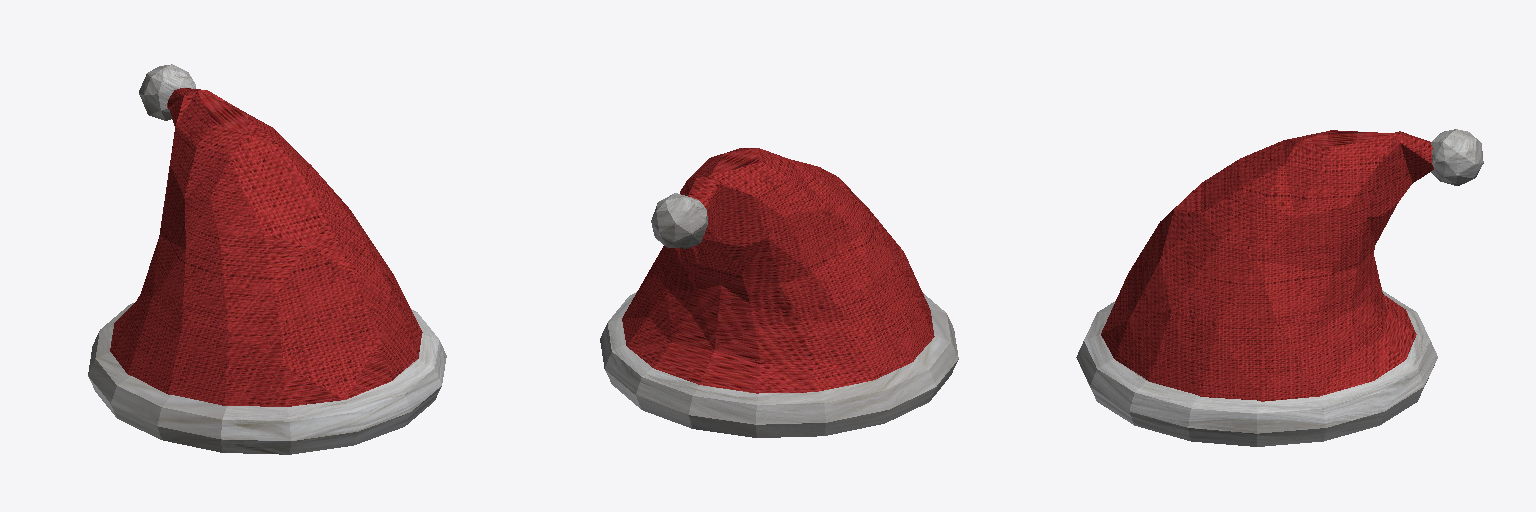
3 renders of one model, left to right at view 1: azimuth 30°, elevation 25°; view 2: azimuth 150°, elevation 25°; view 3: azimuth 270°, elevation 25°, orthographic.
Parts seen in each view (by area): view 1: body.001; view 2: body.001; view 3: body.001.
Boxes of the visible parts, x1,y1,x2,y2 form: body.001: [88, 64, 446, 454]; body.001: [600, 148, 958, 437]; body.001: [1076, 129, 1483, 446].
Size of the model in its own units: 3.43 by 2.61 by 3.86.
Materials: 2 (2 with a texture image).